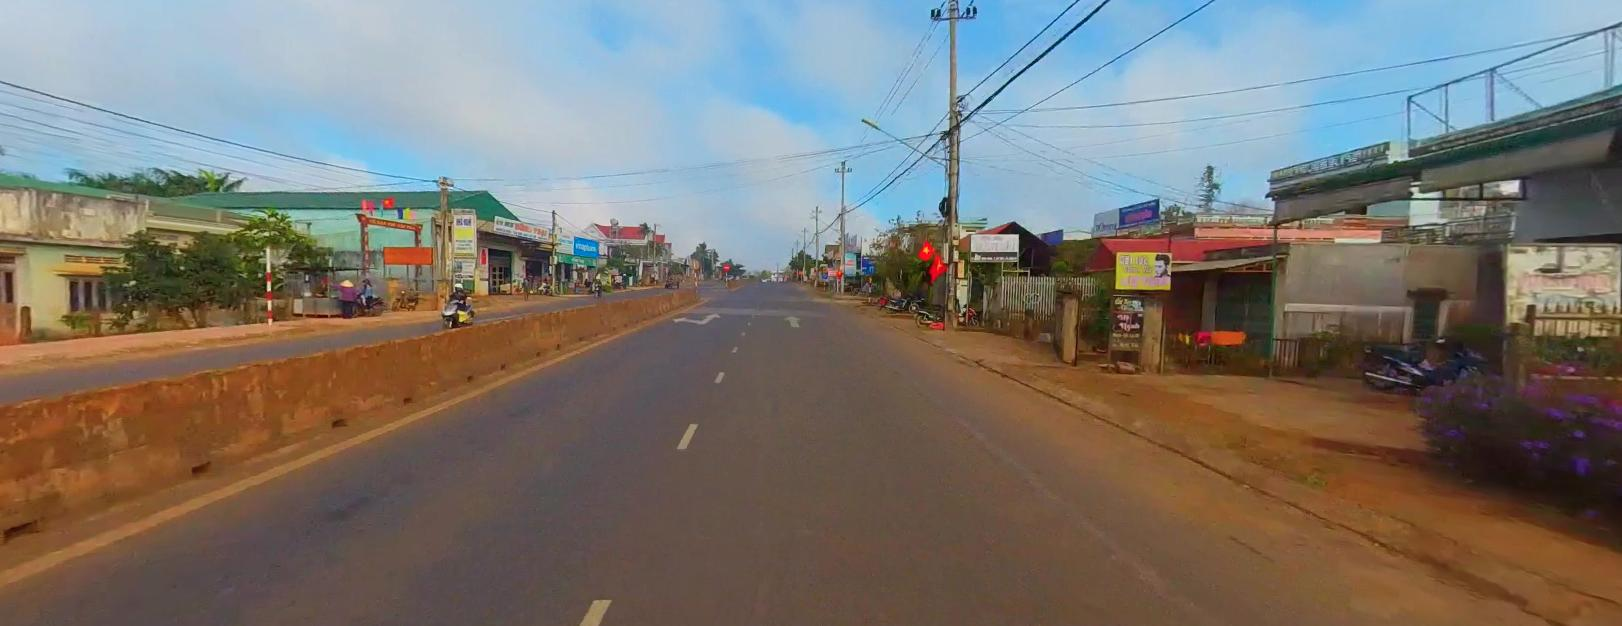Cam nguoc chieu: (721, 262, 729, 270)
